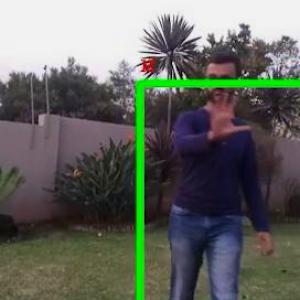follow_hand: (200, 92, 252, 142)
